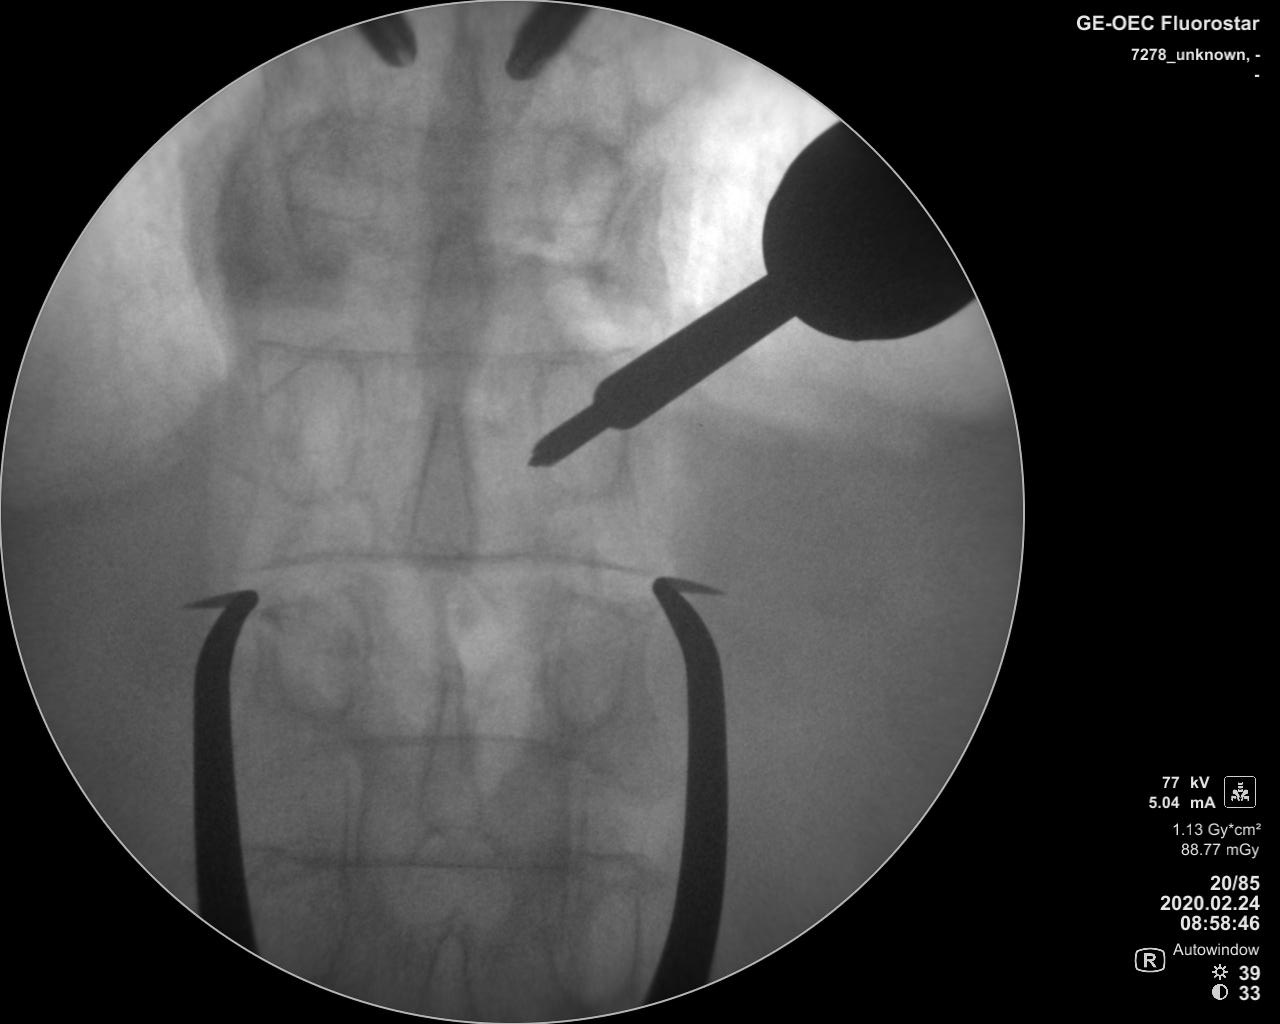eyes: (259, 358, 365, 508), (270, 583, 371, 723), (282, 135, 376, 273), (546, 866, 637, 1006), (536, 363, 623, 508), (548, 597, 628, 736), (539, 122, 618, 260)
line: (230, 544, 653, 579), (252, 338, 628, 365), (260, 847, 565, 872), (270, 726, 564, 747)
nose: (422, 20, 486, 228), (417, 654, 485, 844), (412, 403, 478, 578), (418, 228, 482, 406)
